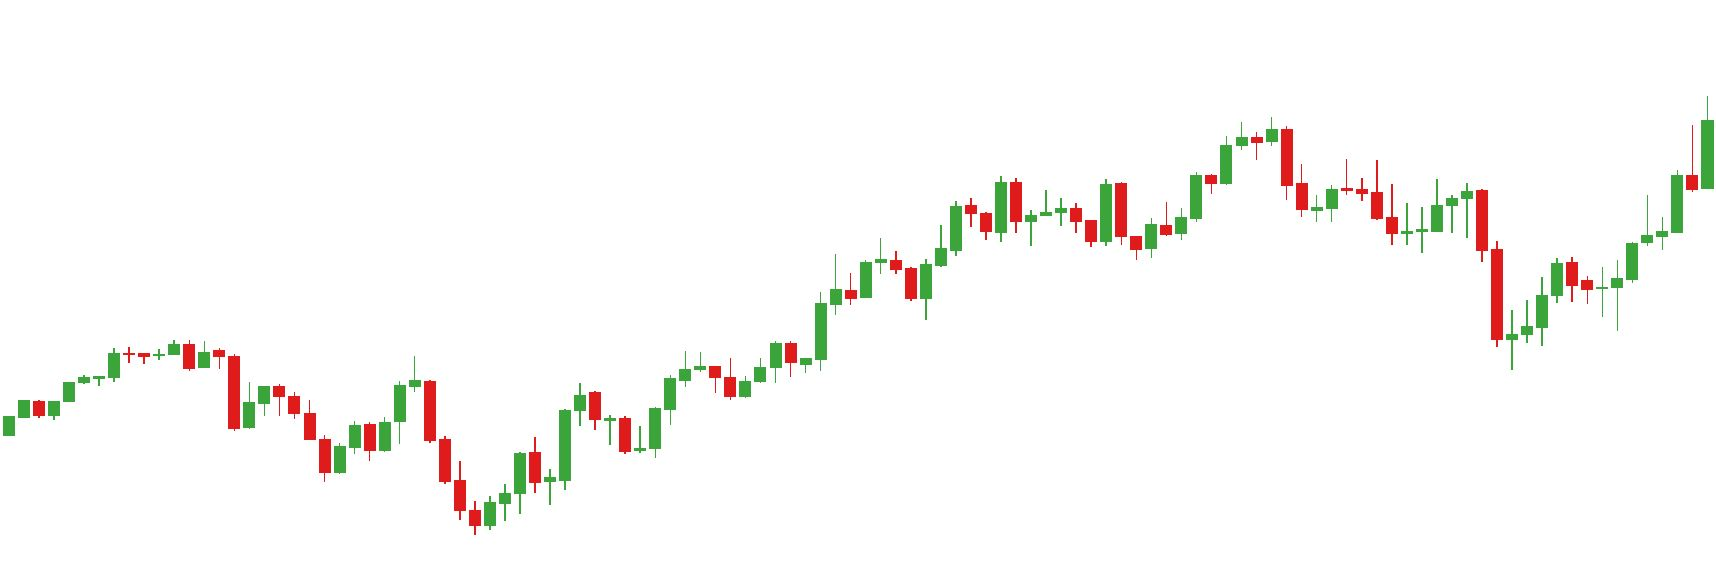buy: (318, 405, 530, 536)
